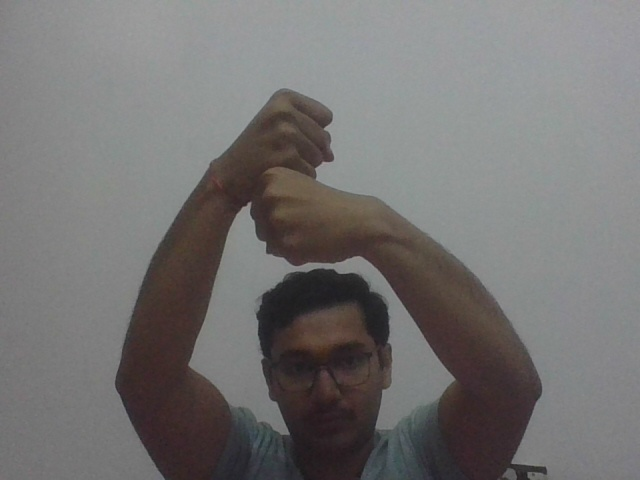G: (248, 82, 357, 267)
